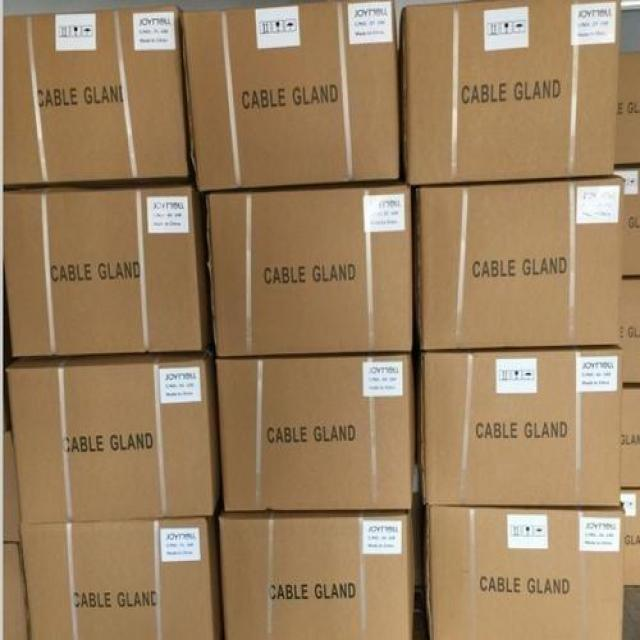box: (177, 0, 403, 189), (399, 0, 617, 184), (0, 352, 221, 526), (201, 182, 420, 355), (416, 177, 624, 359), (0, 192, 213, 359), (416, 343, 624, 507), (0, 12, 192, 187), (217, 358, 424, 518), (421, 506, 629, 640), (211, 507, 417, 640), (19, 518, 221, 640)
